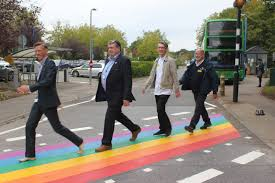pedestrian: (19, 38, 89, 161), (85, 31, 146, 150), (133, 38, 183, 147), (176, 49, 222, 139)
